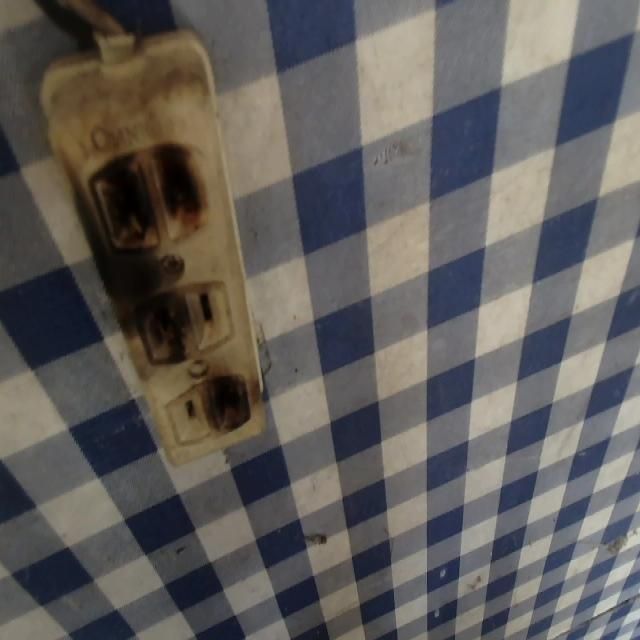-: (67, 132, 217, 249), (196, 365, 265, 444), (135, 289, 192, 368)
